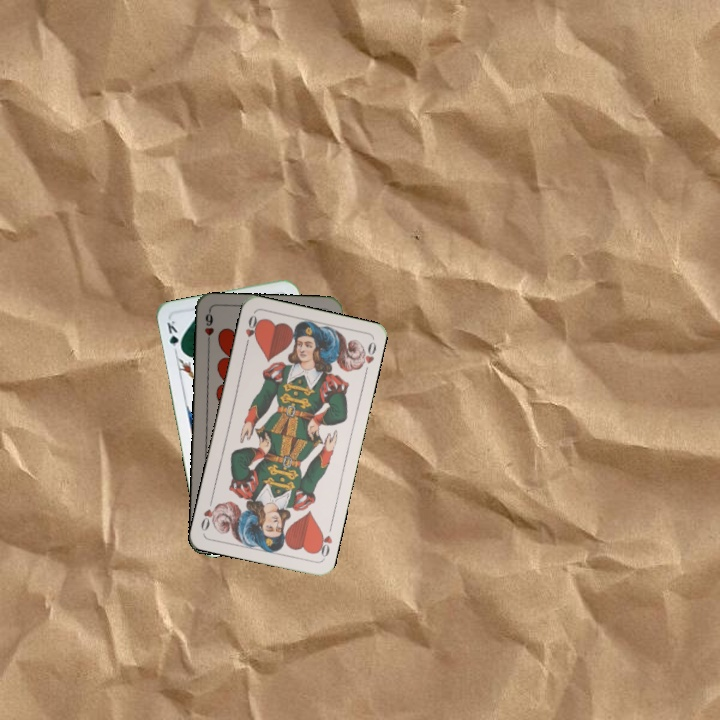GK: (163, 317, 185, 356)
H9: (201, 308, 217, 348)
HO: (312, 521, 335, 561), (241, 311, 262, 350)
